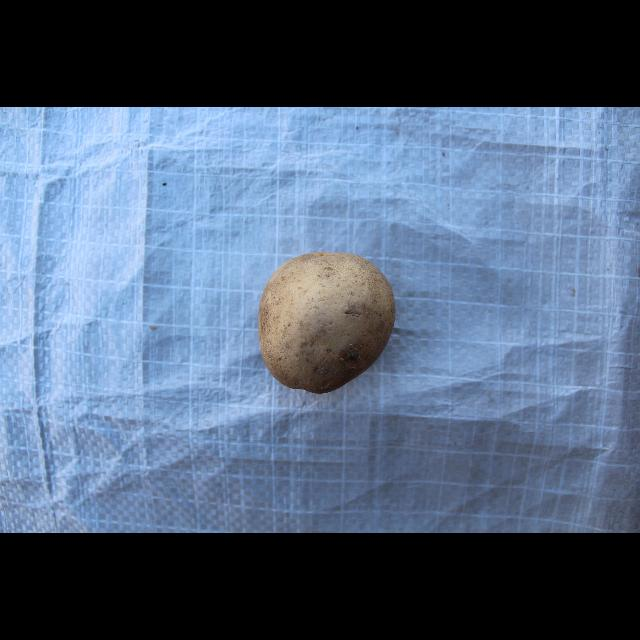Diseased-fungal potato: (255, 245, 397, 400)
